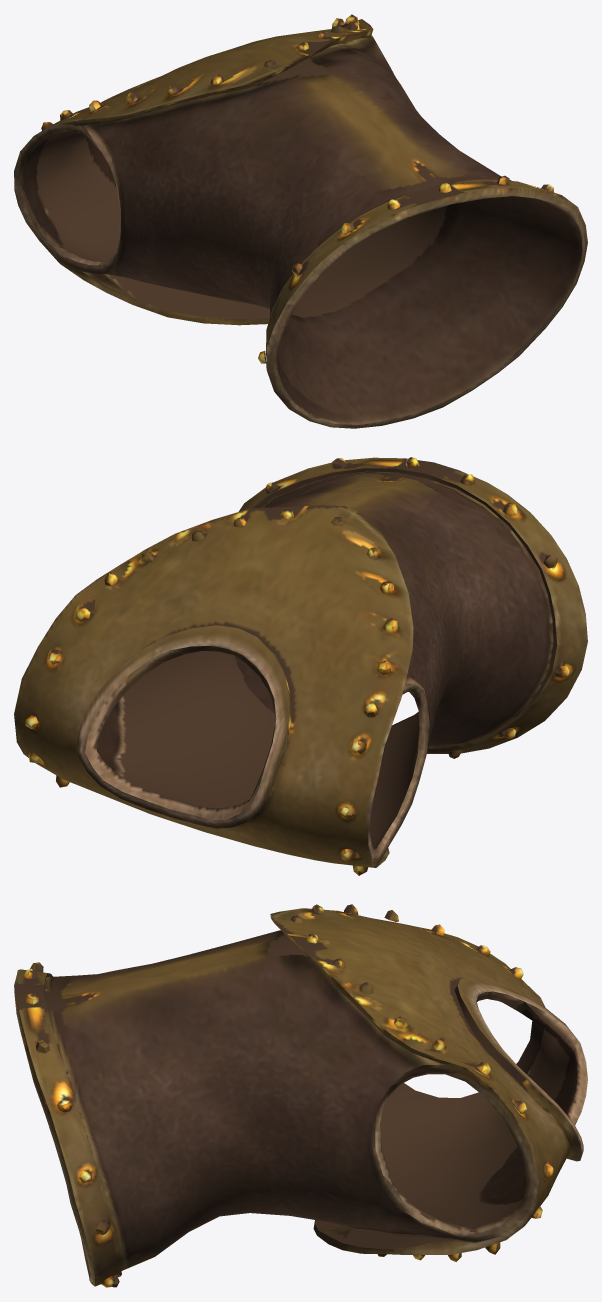
File: item_mm9_10088.glb
3 renders of one model, top to bottom at view 1: azimuth 30°, elevation 25°; view 2: azimuth 150°, elevation 25°; view 3: azimuth 270°, elevation 25°, orthographic. The views are drawn at different scales.
Parts seen in each view (by area): view 1: d10088; view 2: d10088; view 3: d10088.
Part boxes in pixels (<box>): d10088: <box>14,14,587,428</box>; d10088: <box>14,457,587,875</box>; d10088: <box>14,904,587,1287</box>.
Size of the model in its own units: 0.8256 by 0.6686 by 1.06.
1 material, 1 textured.
